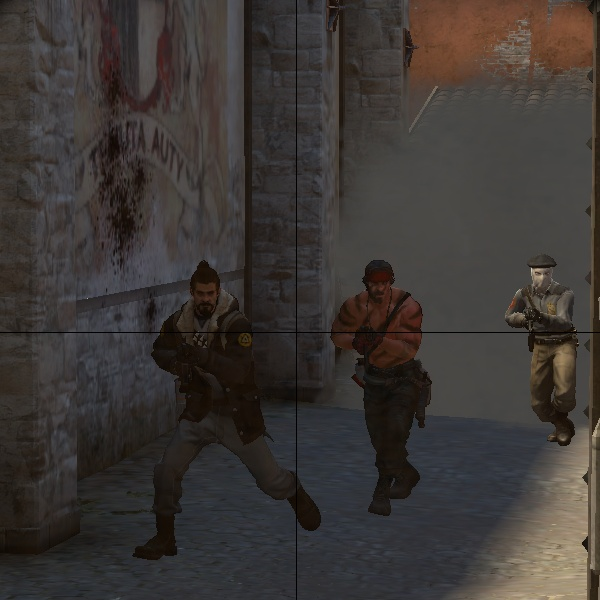t_body: (308, 249, 448, 523)
t_head: (352, 256, 406, 309)
